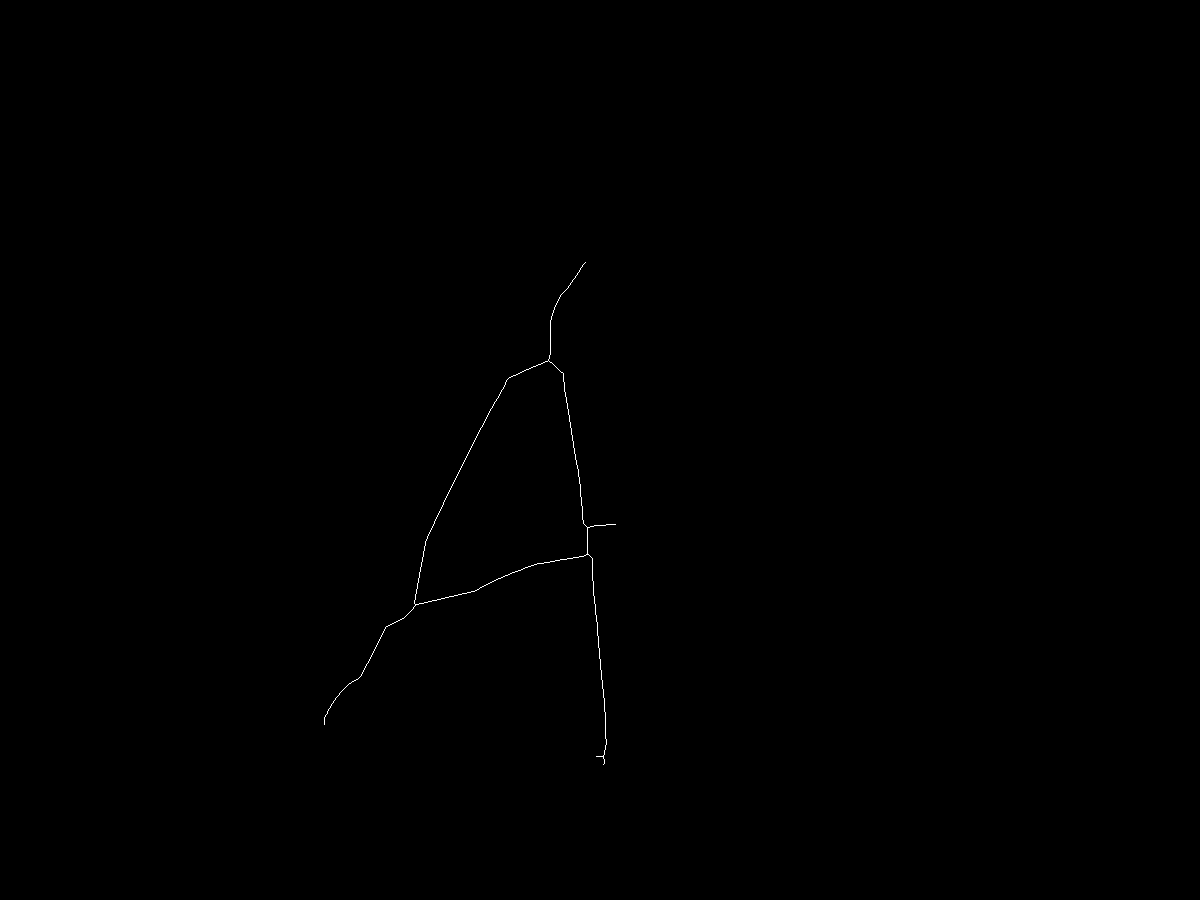dian1: (539, 350, 559, 370)
dian2: (405, 594, 427, 616)
dian3: (313, 716, 331, 734)
dian4: (583, 548, 610, 575)
dian5: (594, 740, 615, 761)
